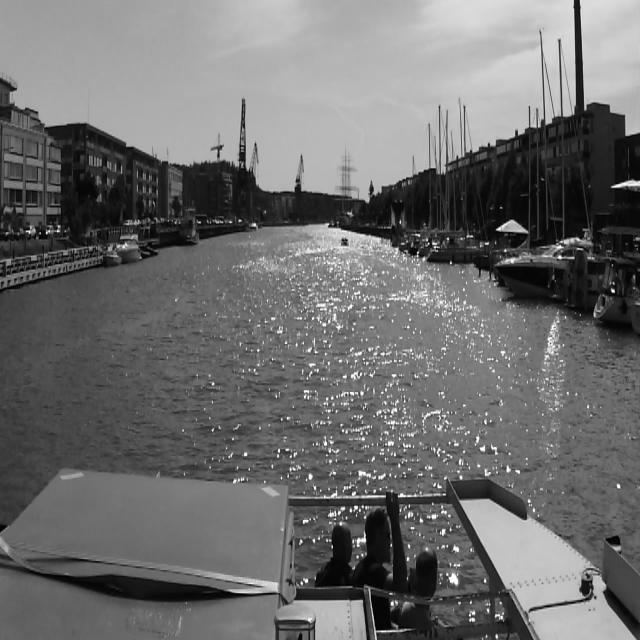ship: (434, 99, 486, 256), (494, 235, 596, 308), (330, 140, 360, 232), (244, 177, 260, 233), (181, 208, 201, 245), (115, 236, 141, 262), (324, 215, 334, 229), (339, 238, 348, 246)
